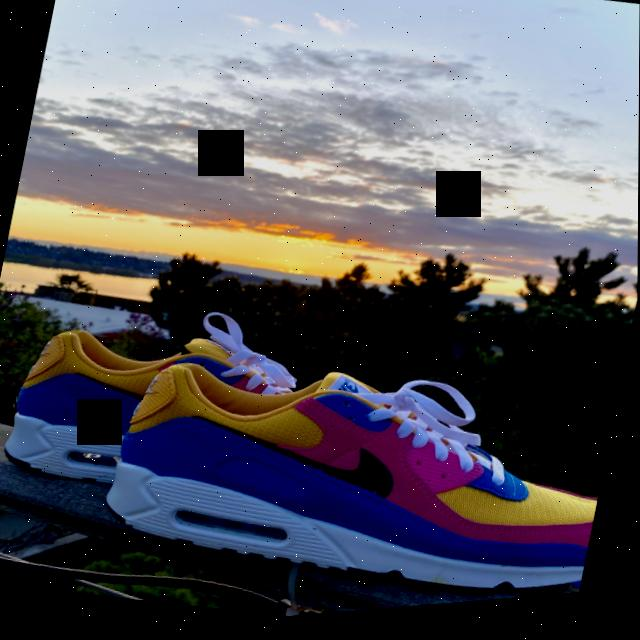shoes: (95, 333, 615, 634), (1, 310, 280, 518)
